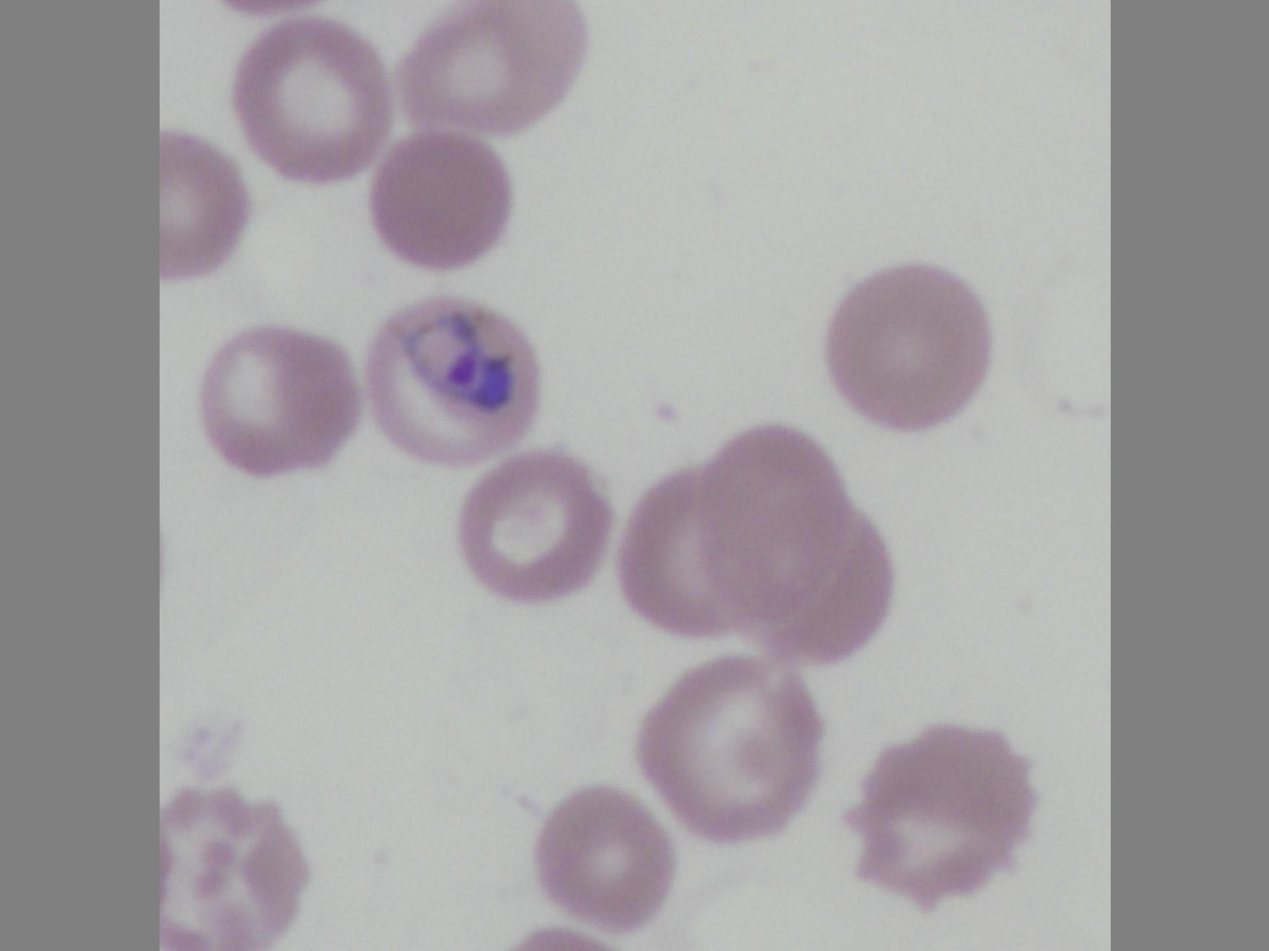Infected: (361, 292, 543, 462)
Uninfected: (850, 719, 1033, 912), (646, 646, 815, 844), (701, 415, 843, 633), (828, 256, 991, 430), (229, 16, 392, 186), (401, 0, 589, 140), (203, 325, 361, 483), (161, 789, 314, 951), (621, 463, 759, 636), (458, 446, 614, 599), (740, 510, 890, 661), (538, 783, 681, 934), (370, 129, 513, 268)
